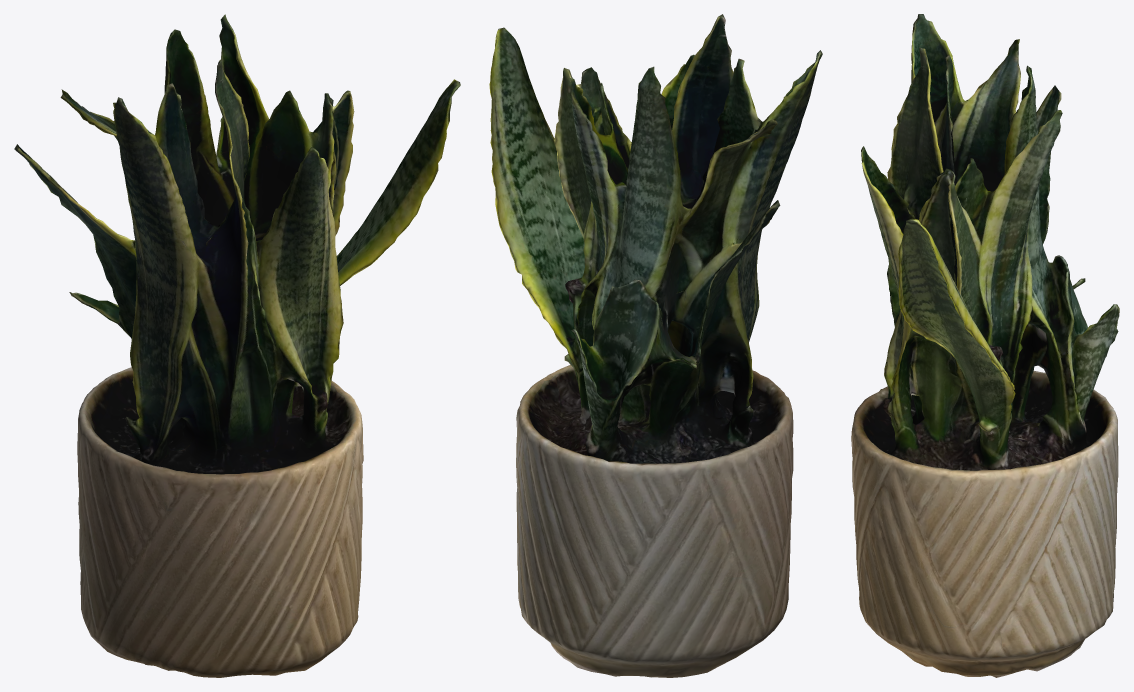
The model's file is plant-snake-1k.glb.
3 views of the same model, side by side, from view 1: azimuth 30°, elevation 25°; view 2: azimuth 150°, elevation 25°; view 3: azimuth 270°, elevation 25° (orthographic). The views are drawn at different scales.
Parts seen in each view (by area): view 1: ObjectCapture; view 2: ObjectCapture; view 3: ObjectCapture.
Part boxes in pixels (x1,y1,x2,y2): ObjectCapture: (14,14,460,677); ObjectCapture: (489,14,822,677); ObjectCapture: (851,14,1119,677).
Bounding box in the file's own units: 0.4279 × 0.7 × 0.2953.
1 material, 1 textured.
